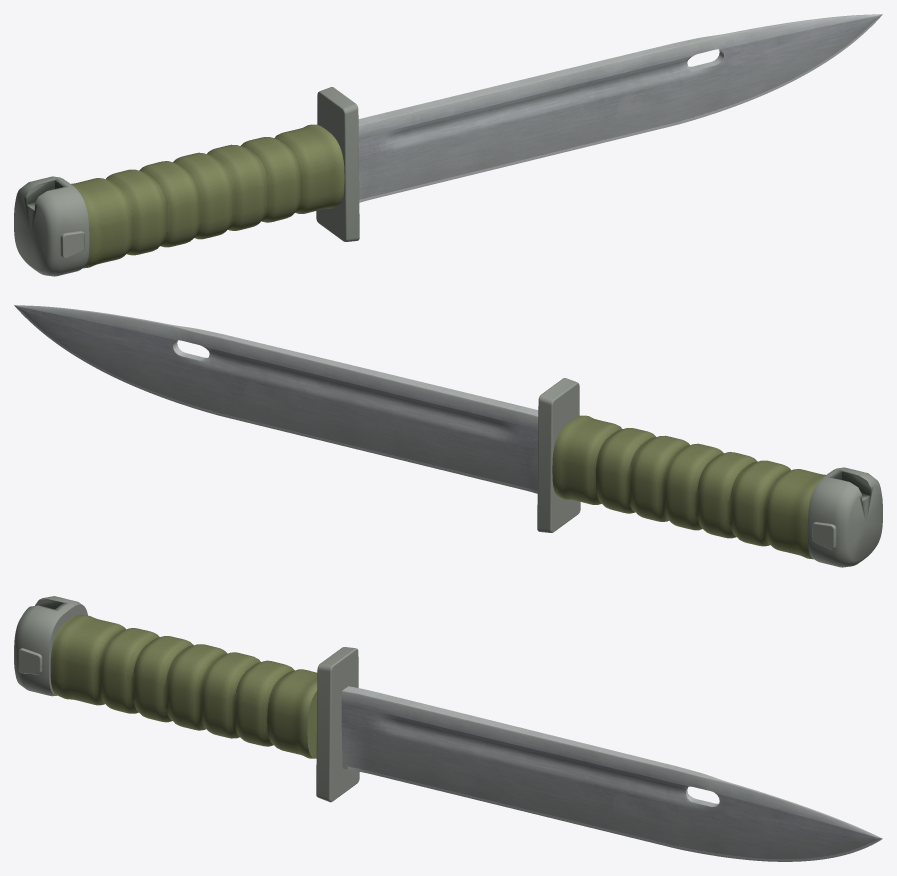
Rendered from bayonet.glb.
The picture shows the model from 3 angles, top to bottom: view 1: azimuth 30°, elevation 25°; view 2: azimuth 150°, elevation 25°; view 3: azimuth 330°, elevation 25°; orthographic projection.
Parts seen in each view (by area): view 1: body; view 2: body; view 3: body.
Part boxes in pixels (left/top/right/bottom): body: left=14, top=14, right=882, bottom=276; body: left=14, top=305, right=882, bottom=567; body: left=14, top=596, right=882, bottom=861.
Size of the model in its own units: 0.355 by 0.0541 by 0.0324.
Materials: 5 (5 with a texture image).
